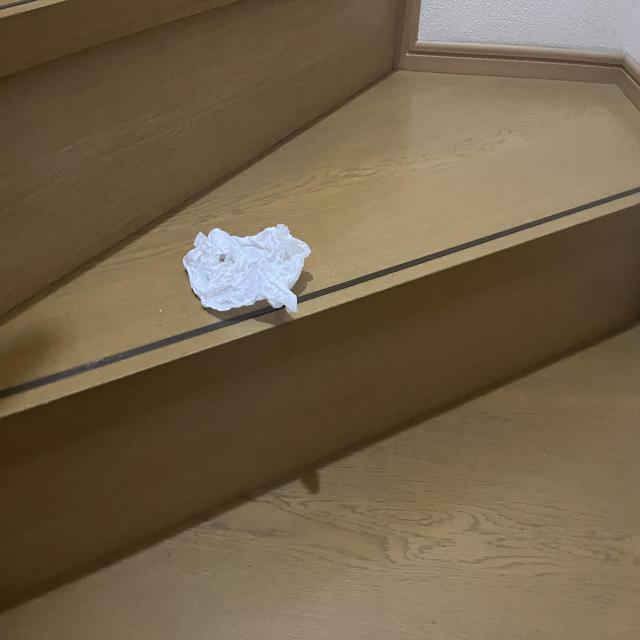Paper: (180, 220, 324, 315)
